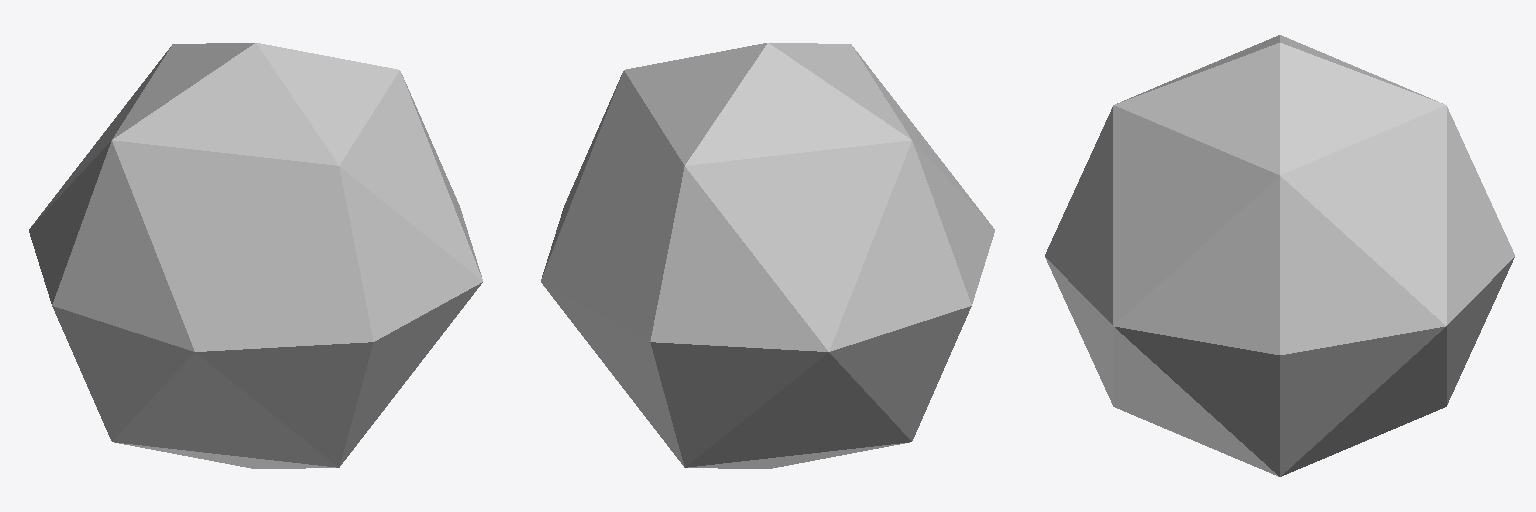
The model's file is octa.obj.
3 views of the same model, side by side, from view 1: azimuth 30°, elevation 25°; view 2: azimuth 150°, elevation 25°; view 3: azimuth 270°, elevation 25° (orthographic).
Parts seen in each view (by area): view 1: GeoSphere001; view 2: GeoSphere001; view 3: GeoSphere001.
Boxes of the visible parts, box(x1,y1,x2,y2) form: GeoSphere001: box(29, 43, 482, 468); GeoSphere001: box(541, 43, 994, 468); GeoSphere001: box(1045, 35, 1514, 476).
Size of the model in its own units: 2.36 by 2.36 by 2.36.